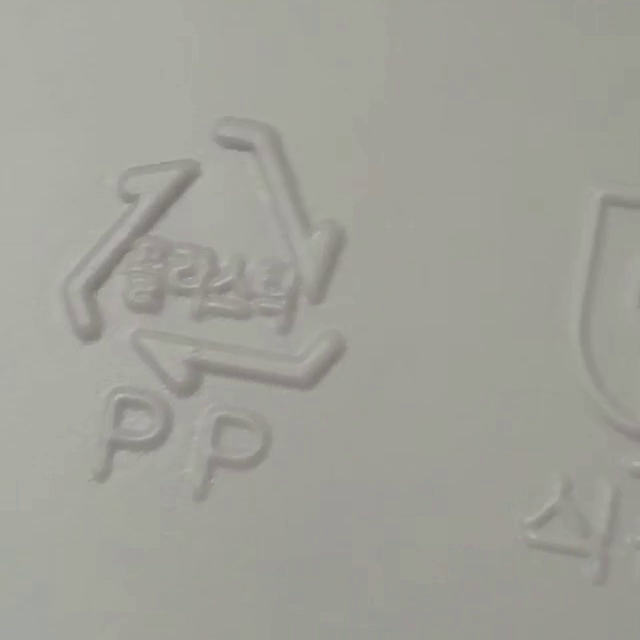Plastic: (62, 120, 349, 400)
